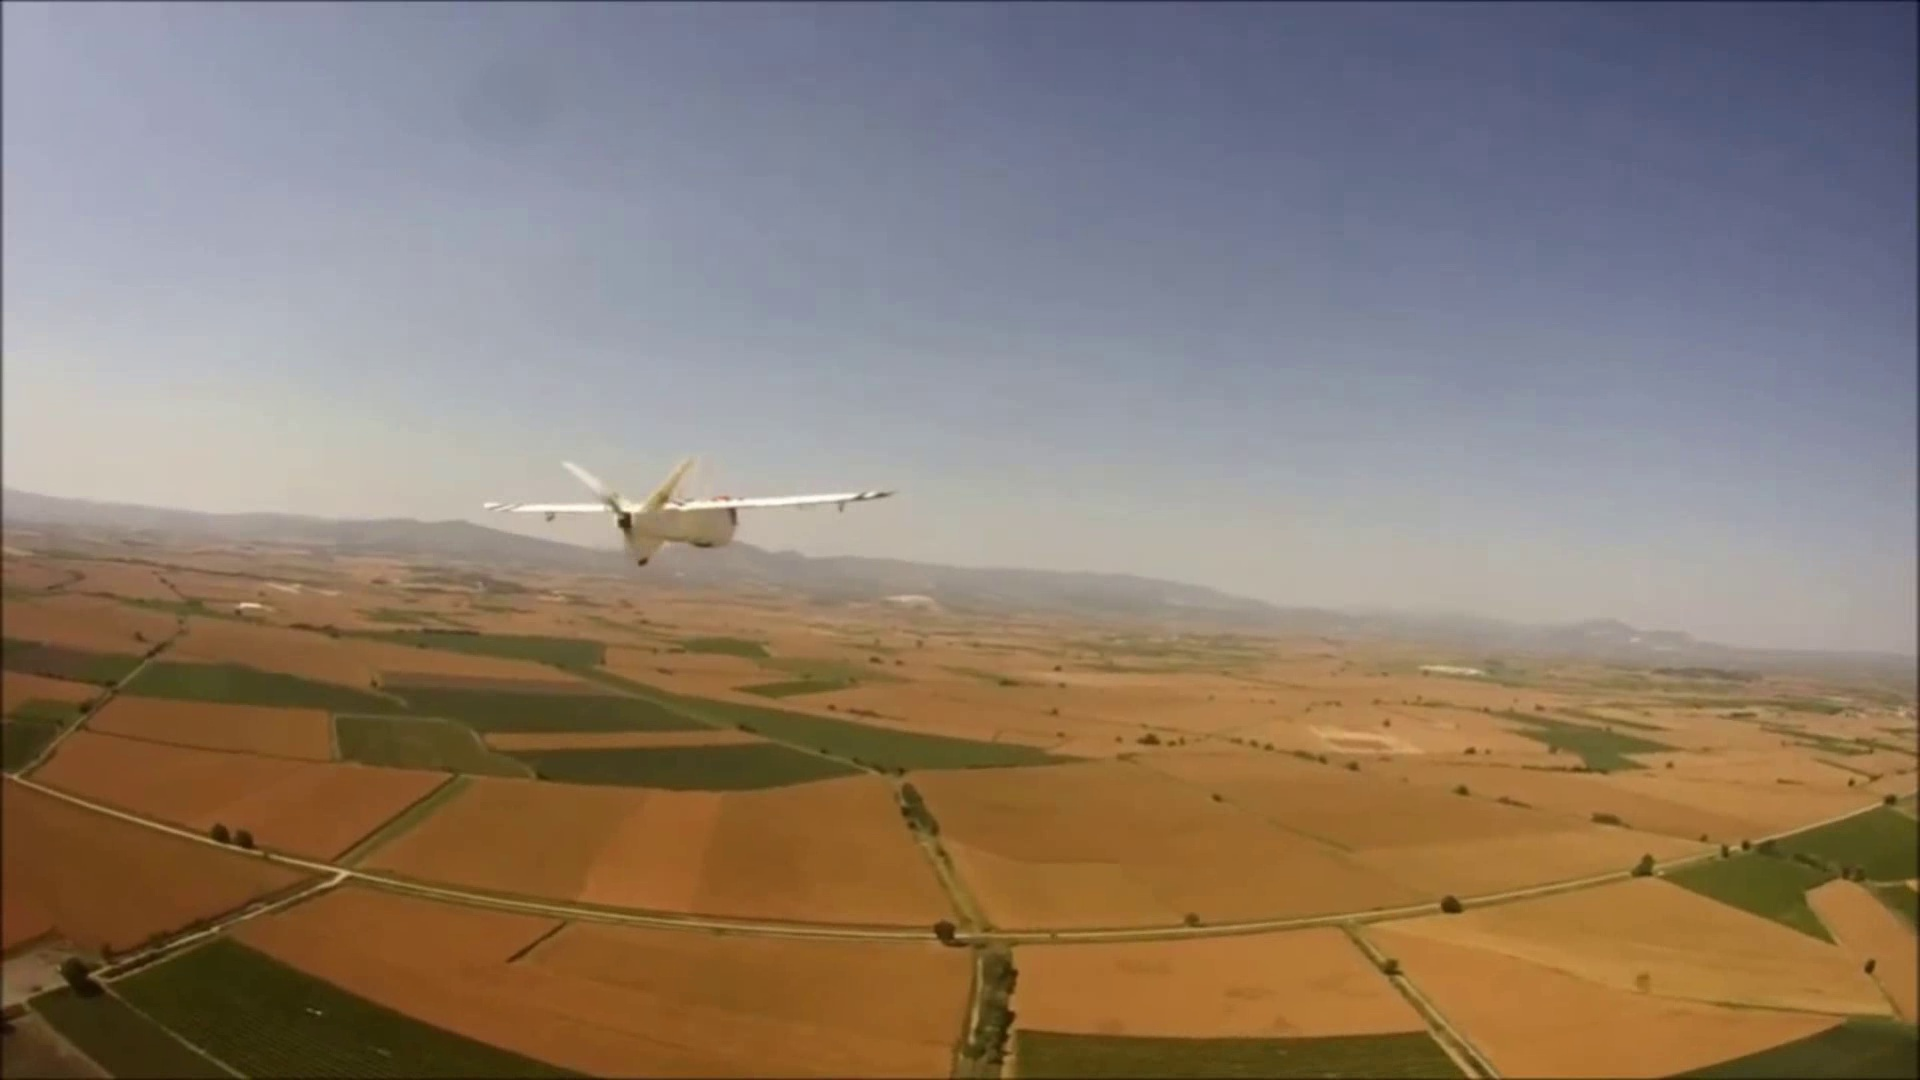airplane: (475, 454, 897, 568)
